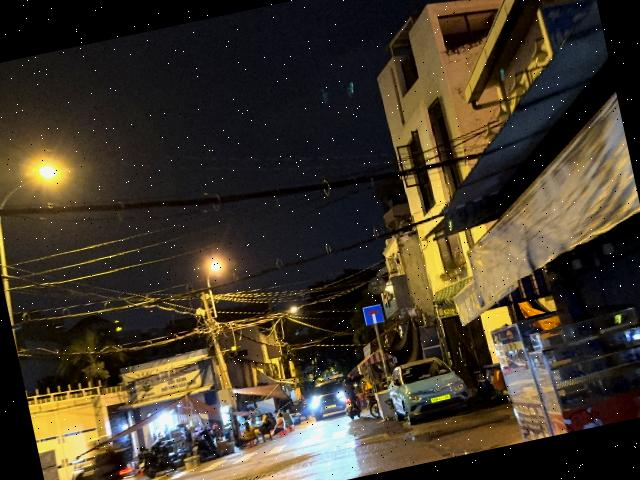duong-cut: (362, 304, 384, 326)
